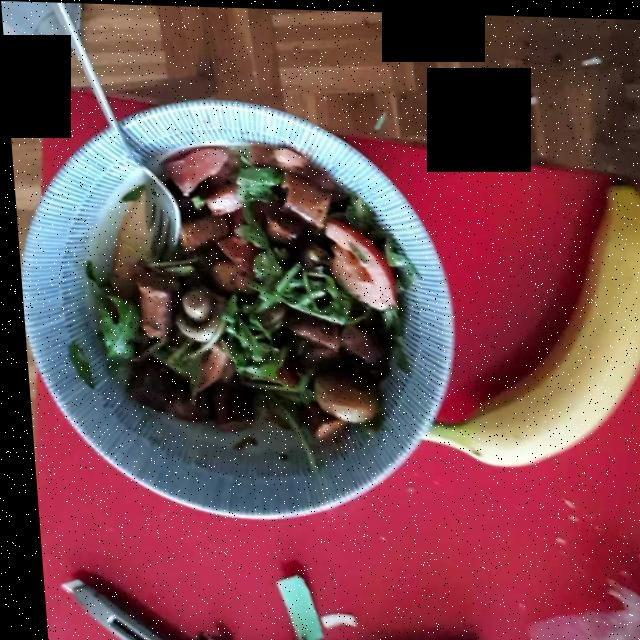banana: (429, 180, 640, 450)
mushroom: (122, 146, 392, 436)
salad: (87, 132, 347, 427)
